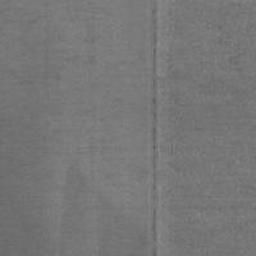Welding line: (152, 0, 158, 256)
